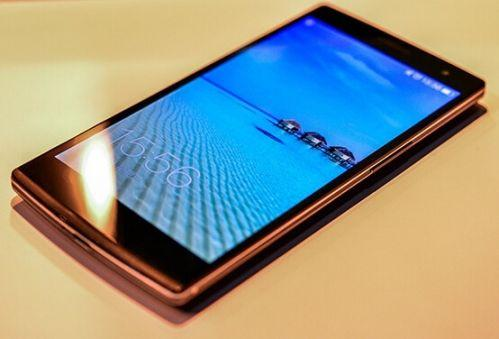phone: (32, 36, 447, 226)
